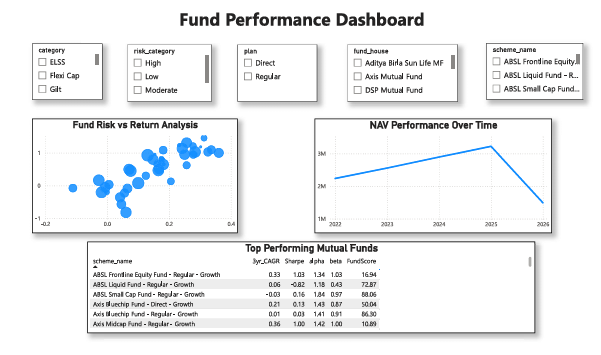

This screenshot's page, from the dashboard's own definition file:
{"tool":"powerbi","page":{"name":"Fund Performance","canvas":[1280,720],"ordinal":1},"visuals":[{"type":"scatterChart","title":"Fund Risk vs Return Analysis","fields":{"X":["Sum(fund_scorecard.3yr_CAGR)"],"Y":["Sum(fund_scorecard.Sharpe)"],"Size":["Sum(clean_performance.aum_crore)"],"Category":["clean_performance.scheme_name"]},"box":[70,243.3,438.3,243.3],"z":0},{"type":"tableEx","title":"Top Performing Mutual Funds","fields":{"Values":["clean_performance.scheme_name","Sum(fund_scorecard.3yr_CAGR)","Sum(fund_scorecard.Sharpe)","Sum(clean_performance.alpha)","Sum(clean_performance.beta)","Sum(fund_scorecard.FundScore)"]},"box":[188.3,505,953.3,195],"z":1000},{"type":"lineChart","title":"NAV Performance Over Time","fields":{"Category":["clean_nav.date.Variation.Date Hierarchy.Year","clean_nav.date.Variation.Date Hierarchy.Quarter","clean_nav.date.Variation.Date Hierarchy.Month","clean_nav.date.Variation.Date Hierarchy.Day"],"Y":["Sum(clean_nav.nav)"]},"box":[671.7,243.3,506.7,243.3],"z":2000},{"type":"slicer","fields":{"Values":["clean_performance.fund_house"]},"box":[741.7,85,236.7,121.7],"z":3000},{"type":"slicer","fields":{"Values":["clean_performance.category"]},"box":[70,83.3,150,120],"z":4000},{"type":"slicer","fields":{"Values":["clean_performance.plan"]},"box":[508.3,85,170,121.7],"z":5000},{"type":"slicer","fields":{"Values":["01_fund_master.risk_category"]},"box":[273.3,85,180,121.7],"z":6000},{"type":"textbox","box":[175,0,930,81.7],"z":7000},{"type":"slicer","fields":{"Values":["clean_performance.scheme_name"]},"box":[1038.3,81.7,206.7,121.7],"z":8000}]}

Visuals, with their boxes in screenshot pixels (x1, y1, x2, y2):
"Fund Risk vs Return Analysis" scatterChart: pyautogui.locateOnScreen(34, 119, 237, 232)
"Top Performing Mutual Funds" tableEx: pyautogui.locateOnScreen(89, 240, 530, 330)
"NAV Performance Over Time" lineChart: pyautogui.locateOnScreen(313, 119, 547, 232)
slicer - clean_performance.fund_house: pyautogui.locateOnScreen(345, 46, 455, 102)
slicer - clean_performance.category: pyautogui.locateOnScreen(34, 45, 103, 100)
slicer - clean_performance.plan: pyautogui.locateOnScreen(237, 46, 316, 102)
slicer - 01_fund_master.risk_category: pyautogui.locateOnScreen(128, 46, 211, 102)
textbox: pyautogui.locateOnScreen(83, 6, 513, 44)
slicer - clean_performance.scheme_name: pyautogui.locateOnScreen(482, 44, 578, 100)
